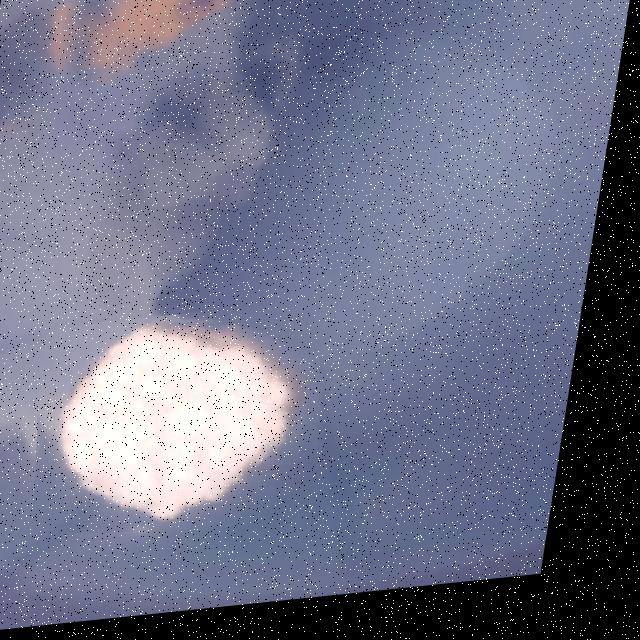litter: (23, 307, 333, 557)
